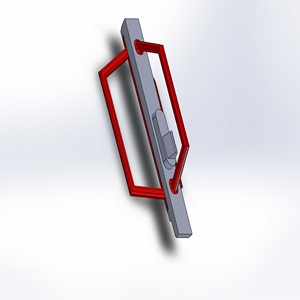submarine: (80, 7, 216, 253)
